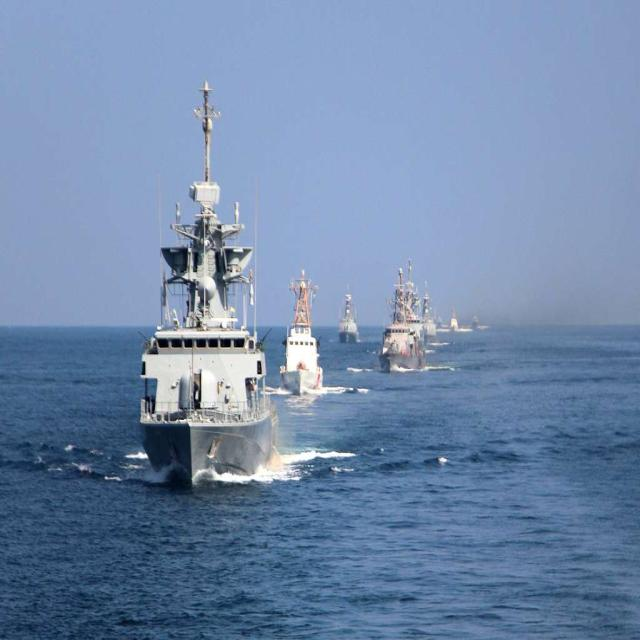navalvessels: (136, 74, 282, 486), (273, 248, 328, 402), (371, 267, 431, 376), (330, 282, 358, 354)
